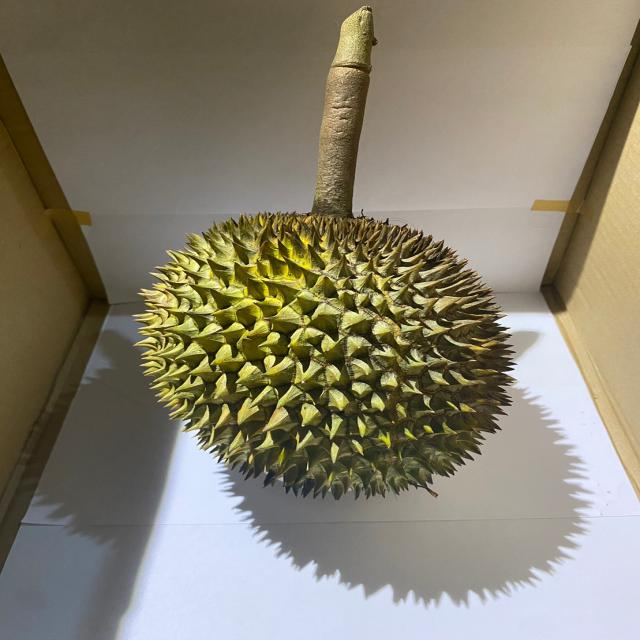immature: (137, 209, 520, 496)
